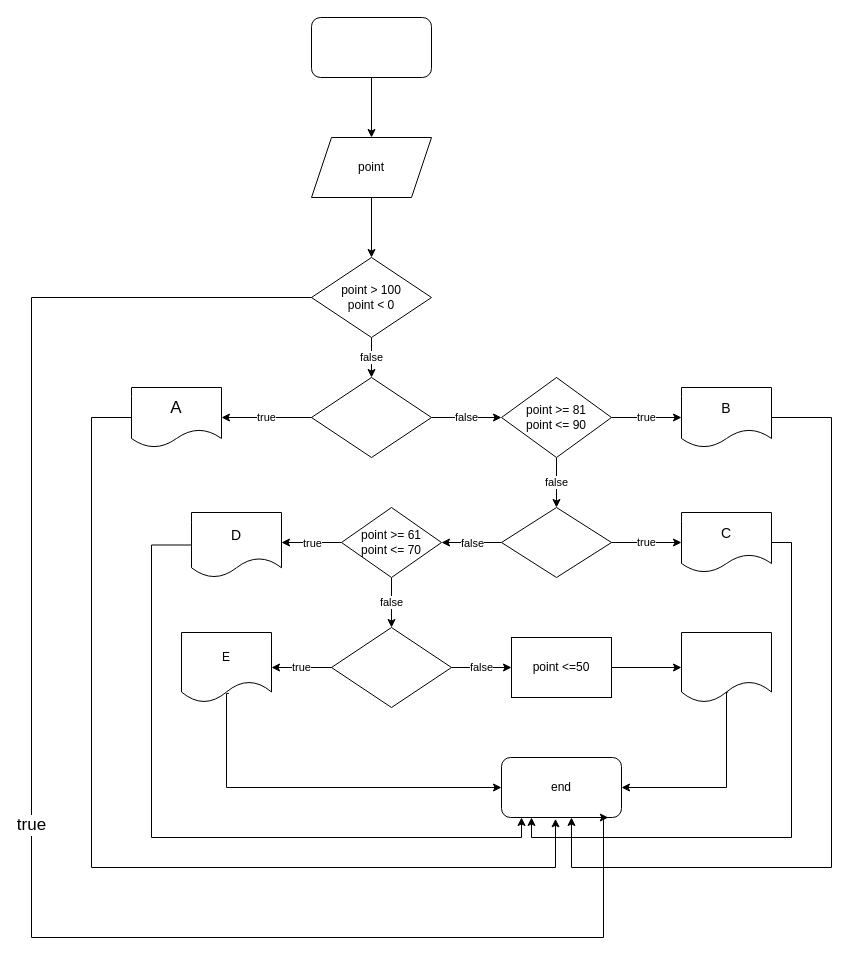
Image size: 857x963. Some labels were removed from this diagram. Each missing label, with the box of its shape:
kəsr: (680, 632, 772, 702)
point >= 51 point <= 60: (330, 626, 452, 708)
point >= 71 point <= 80: (500, 506, 612, 578)
point >= 91 point <= 100: (310, 376, 432, 458)
start: (310, 16, 432, 78)
